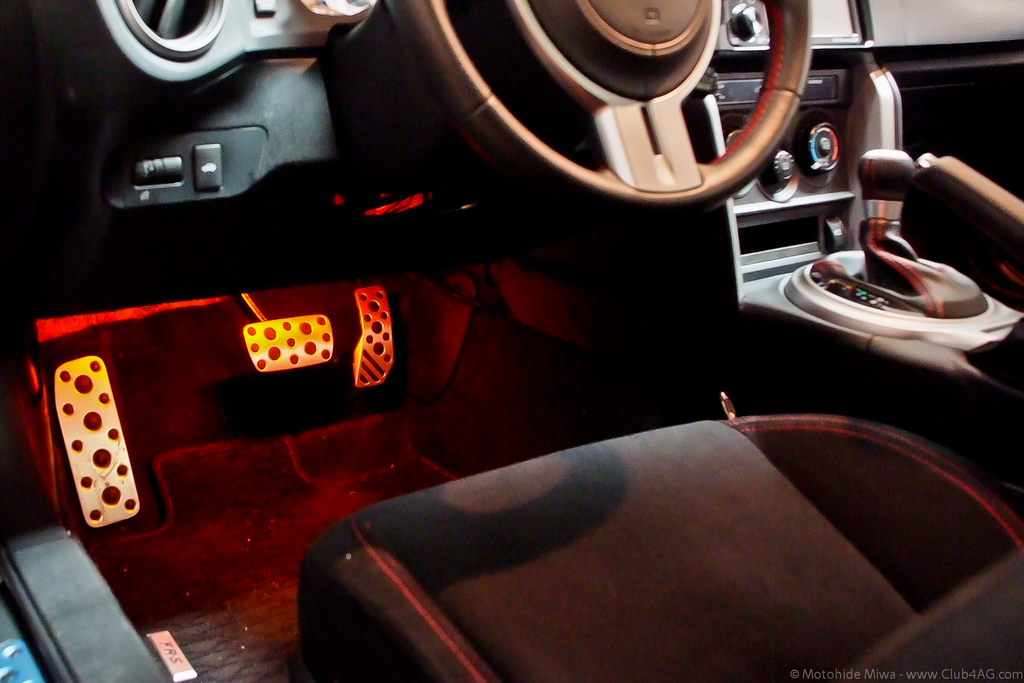Car: (65, 10, 1012, 661)
